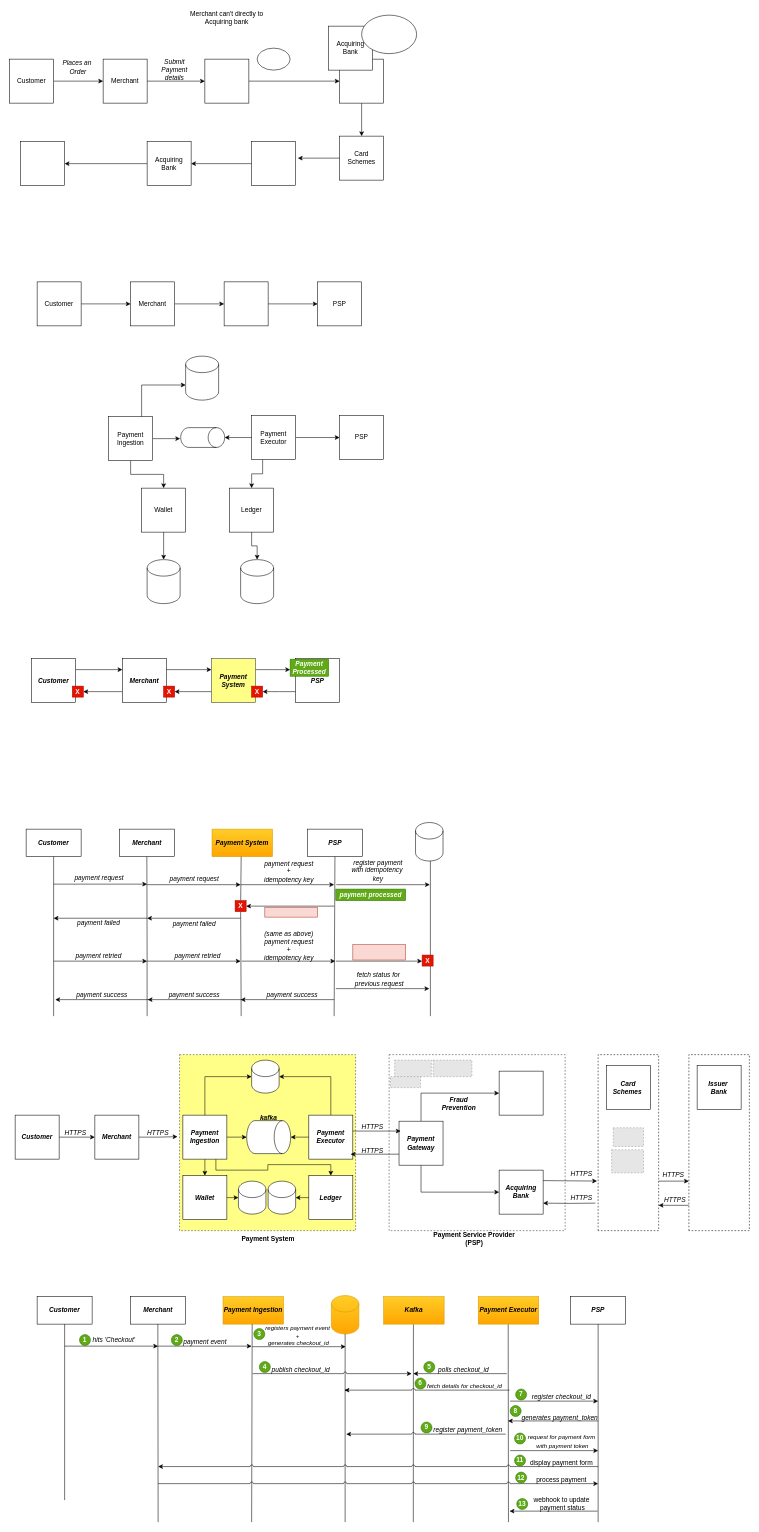
Image size: 759x1532. Some labels were removed from this diagram. Grey dashed boxes stand in for pictures. Here are the shapes that lost their labels. From the top down, the box of each, then its label:
(361, 15, 417, 54): Payment Service Provider
(257, 48, 290, 70): PCI DSS
(204, 59, 249, 103): Paymet Gateway
(339, 59, 384, 103): Payment Processor
(20, 141, 65, 186): Merchant Bank
(251, 141, 296, 186): Issuing Bank
(224, 281, 268, 326): Payment Service
(264, 907, 318, 917): response failed
(352, 944, 406, 960): unique constraint violated
(499, 1071, 543, 1115): Risk Check
